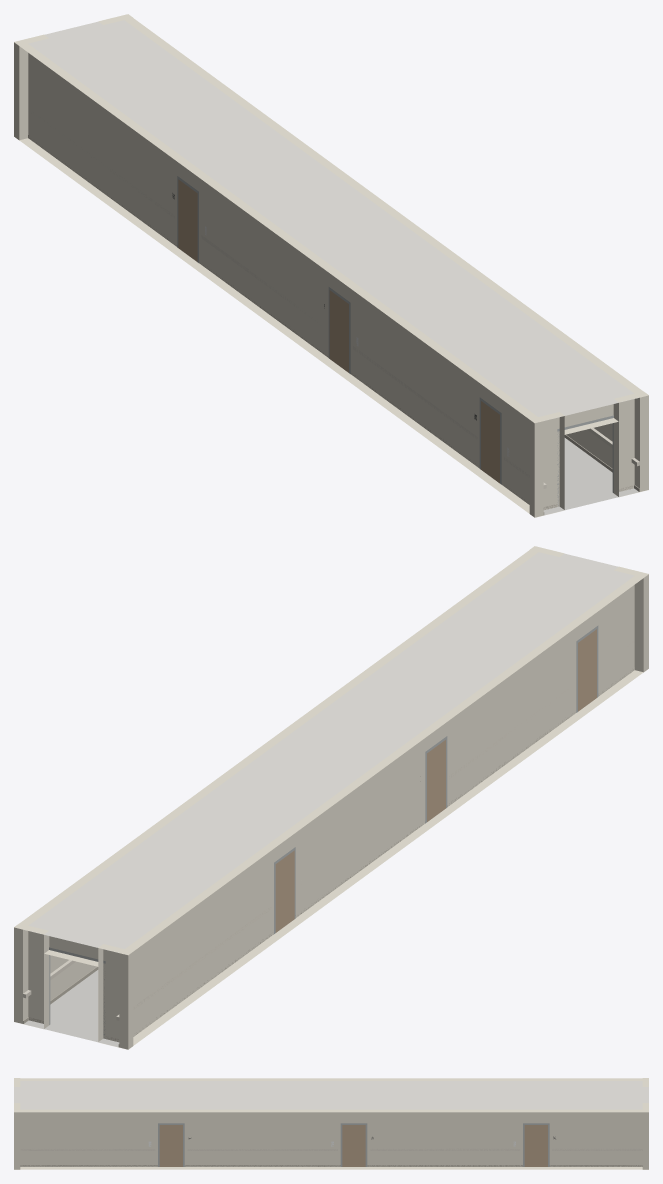
Rendered from ward.glb.
The picture shows the model from 3 angles, top to bottom: view 1: azimuth 30°, elevation 25°; view 2: azimuth 150°, elevation 25°; view 3: azimuth 270°, elevation 25°; orthographic projection. The views are drawn at different scales.
Parts seen in each view (by area): view 1: ward; view 2: ward; view 3: ward.
Boxes of the visible parts, x1,y1,x2,y2 form: ward: (14,14,648,517); ward: (14,546,648,1049); ward: (14,1078,648,1169).
Size of the model in its own units: 3.8 by 3.01 by 30.
